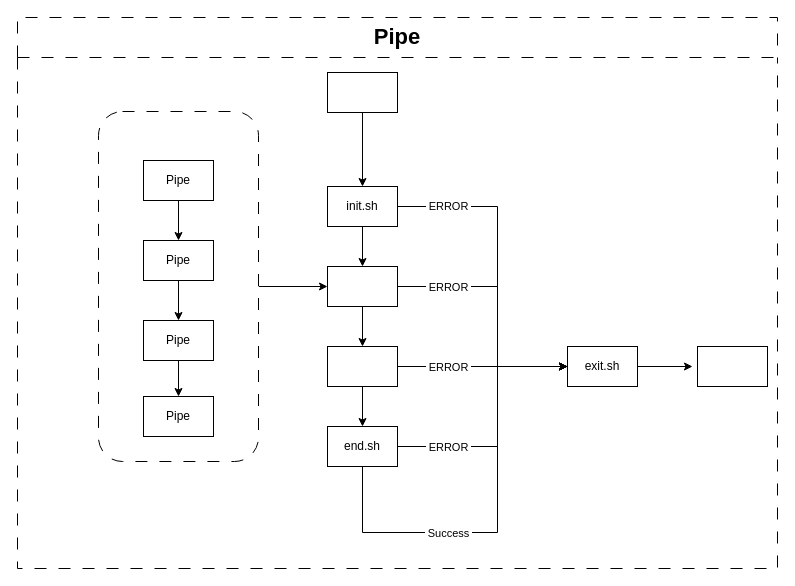
Image size: 795x586. Some labels were removed from this diagram. Each missing label, with the box of its shape:
cmds.sh: (326, 346, 398, 386)
Finish: (696, 346, 768, 386)
Start: (326, 72, 398, 112)
steps: (326, 266, 398, 306)
